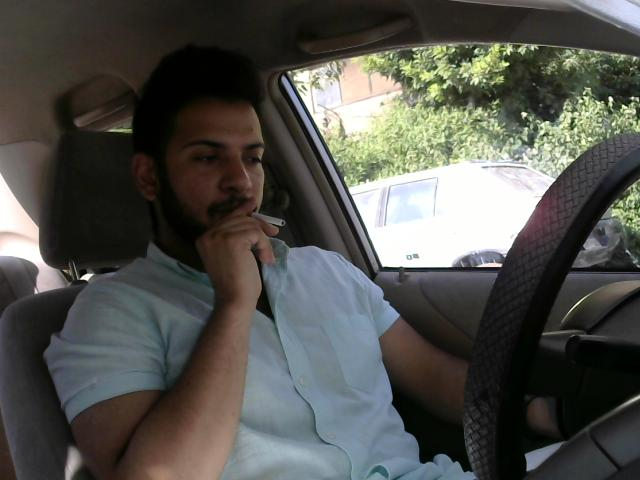Smoking: (246, 210, 290, 231)
